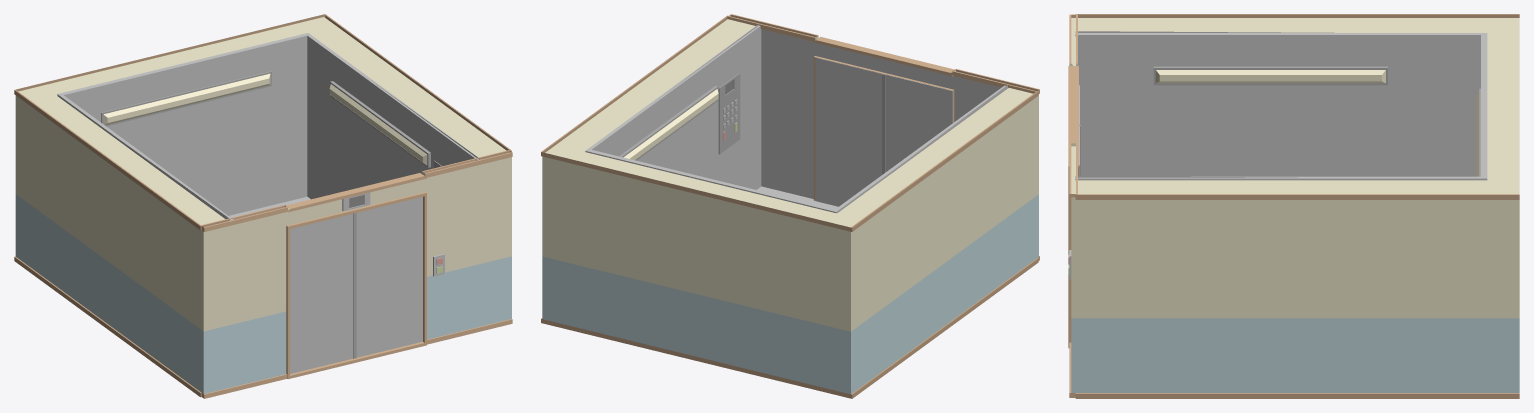
The model's file is Myelevator.fbx.
3 renders of one model, left to right at view 1: azimuth 30°, elevation 25°; view 2: azimuth 150°, elevation 25°; view 3: azimuth 270°, elevation 25°, orthographic. The views are drawn at different scales.
Parts seen in each view (by area): view 1: Boole_5, Boole_3, Cube_16_2, Cube_12_2; view 2: Boole_5, Boole_3, Cube_16_2, Cube_12_2; view 3: Boole_5, Boole_3.
Part boxes in pixels (x1,y1,x2,y2): Boole_5: [14, 14, 512, 398]; Boole_3: [57, 33, 480, 220]; Cube_16_2: [353, 197, 422, 358]; Cube_12_2: [290, 213, 356, 373]; Boole_5: [541, 14, 1039, 398]; Boole_3: [585, 25, 1007, 212]; Cube_16_2: [815, 57, 885, 206]; Cube_12_2: [882, 74, 952, 172]; Boole_5: [1068, 14, 1519, 398]; Boole_3: [1075, 33, 1487, 180].
Size of the model in its own units: 173 by 90.79 by 182.
